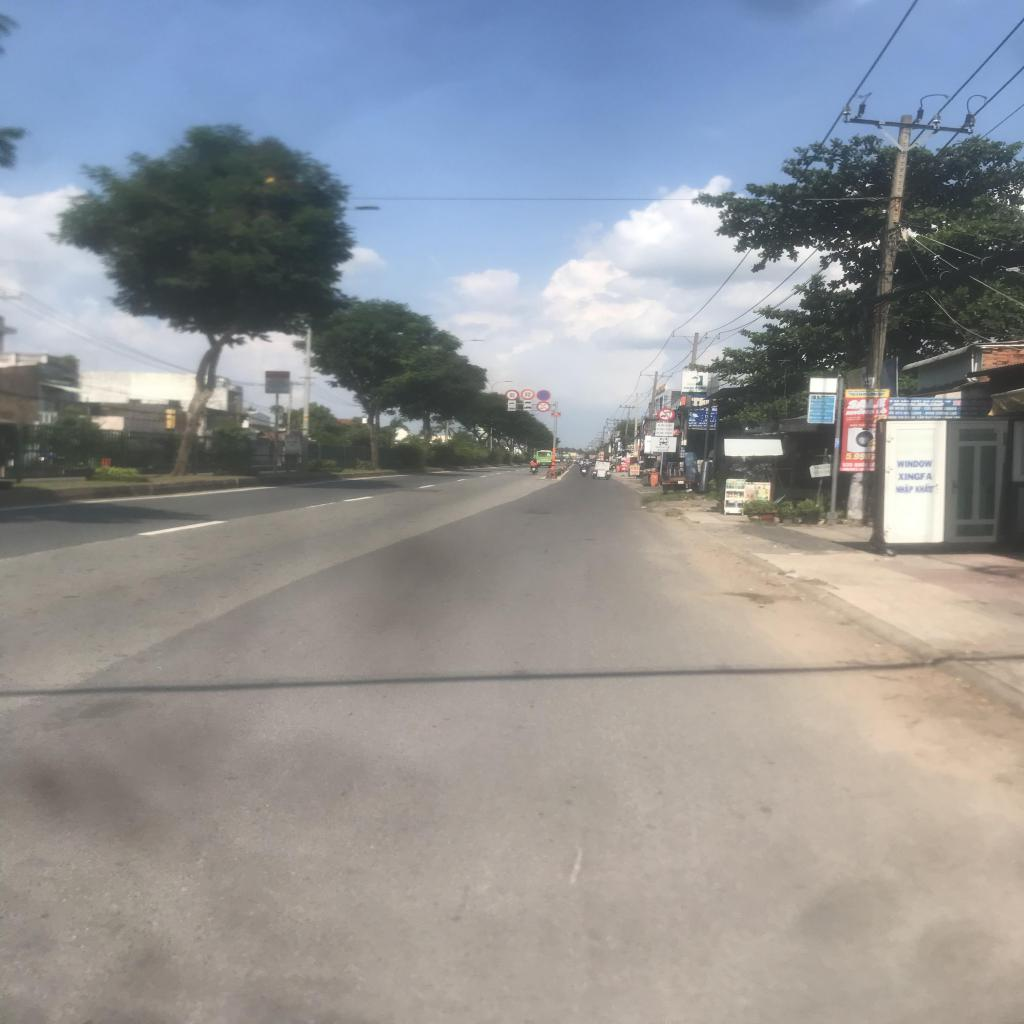cam_dung_xe_va_do_xe: (536, 390, 550, 401)
cam_o_to_tai_va_xe_khach: (657, 408, 675, 421)
cam_xe_2_banh_va_xe_3_banh_co_dong_co: (536, 401, 550, 412)
khac: (651, 437, 677, 452), (655, 422, 674, 436), (507, 405, 516, 411), (523, 400, 532, 406), (508, 400, 516, 406), (524, 406, 532, 410)
toc_do_toi_da_60: (521, 389, 535, 400)
toc_do_toi_da_80: (505, 390, 520, 400)
